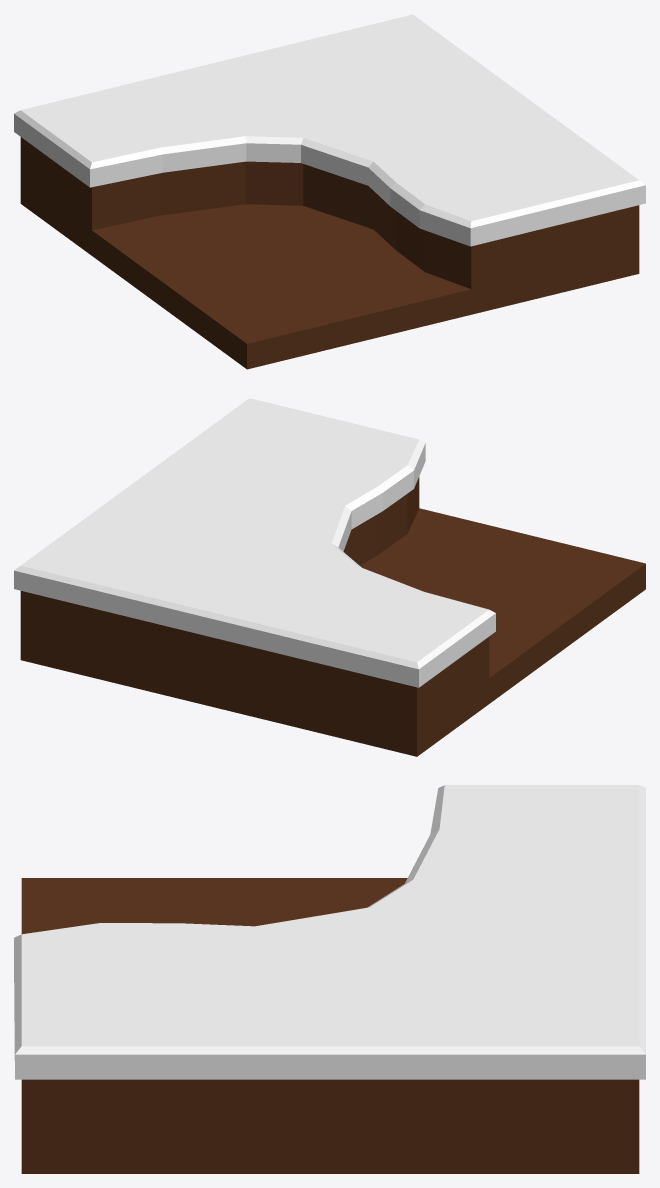
File: christmax_ground.fbx
3 renders of one model, top to bottom at view 1: azimuth 30°, elevation 25°; view 2: azimuth 150°, elevation 25°; view 3: azimuth 270°, elevation 25°, orthographic. The views are drawn at different scales.
Parts seen in each view (by area): view 1: Ground; view 2: Ground; view 3: Ground.
Boxes of the visible parts, bbox=[...] form: Ground: bbox=[14, 14, 645, 369]; Ground: bbox=[14, 398, 645, 756]; Ground: bbox=[14, 785, 645, 1173].
Bounding box in the file's own units: 14.3 × 3.19 × 14.32.
Materials: 1 (1 with a texture image).
